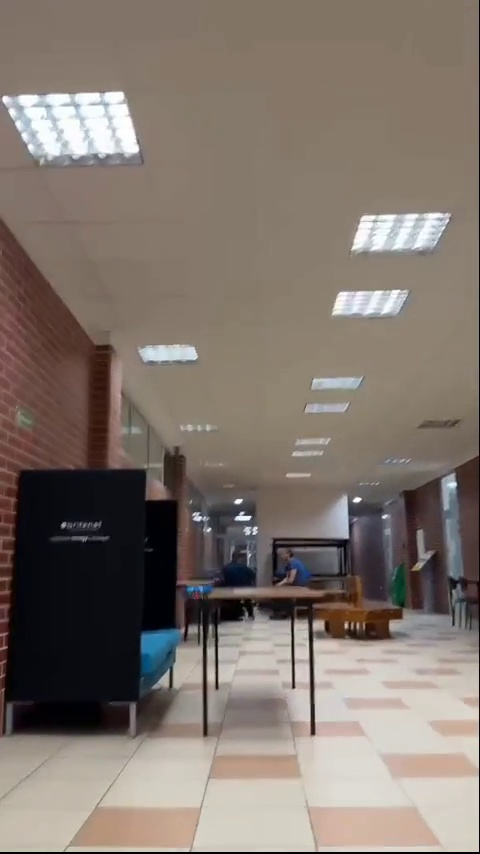drone: (182, 585, 215, 602)
no vest: (224, 550, 253, 587), (279, 550, 311, 581)
